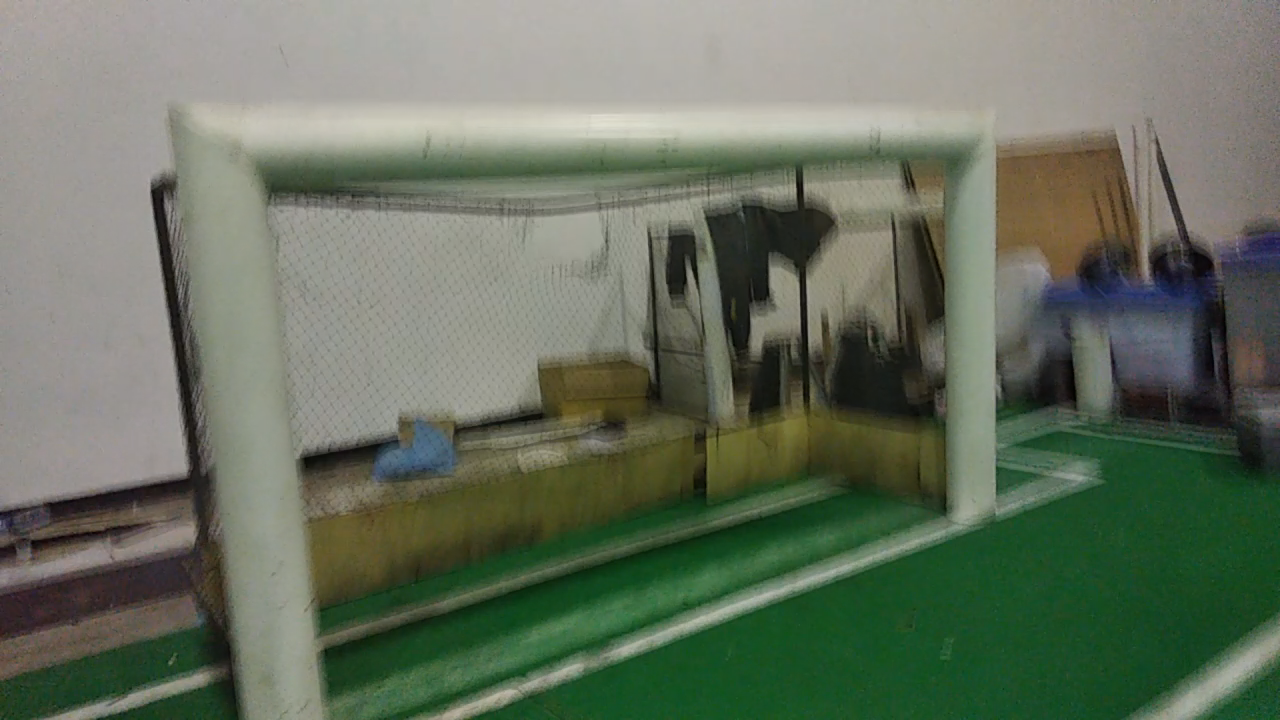gawang: (157, 85, 1019, 715)
